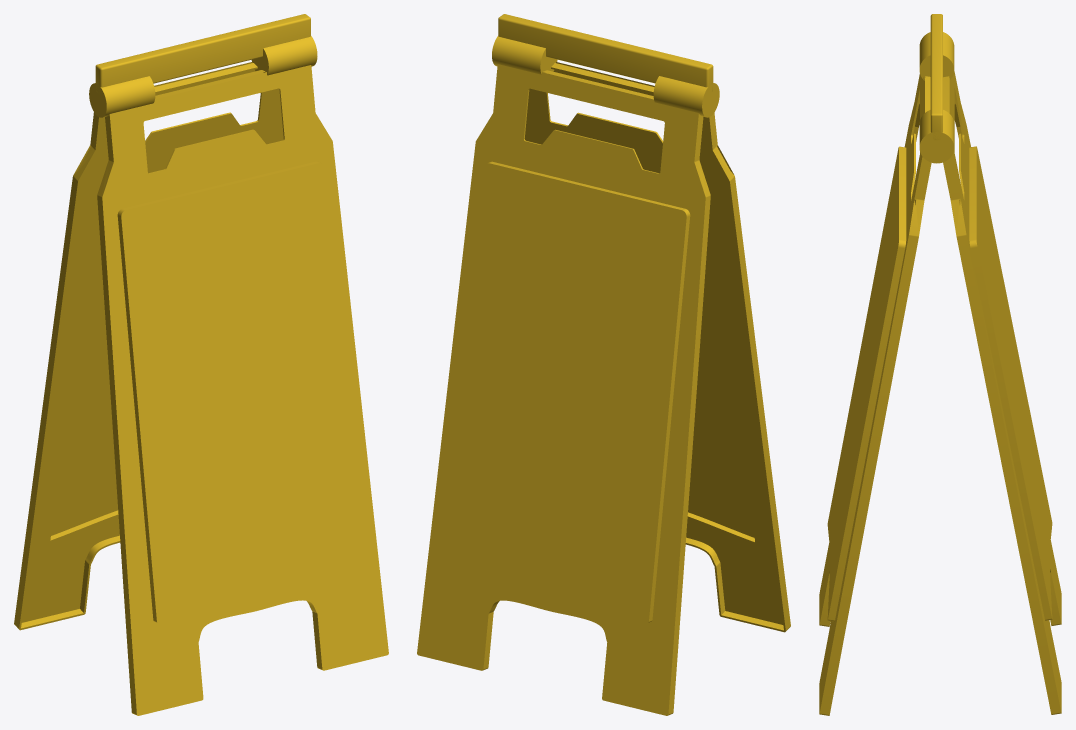
Rendered from wet-floor-sign.glb.
3 views of the same model, side by side, from view 1: azimuth 30°, elevation 25°; view 2: azimuth 150°, elevation 25°; view 3: azimuth 270°, elevation 25° (orthographic).
Visible parts, largest first — view 1: folding_sign; view 2: folding_sign; view 3: folding_sign.
Boxes of the visible parts, x1,y1,x2,y2 form: folding_sign: (14,14,388,715); folding_sign: (417,14,790,715); folding_sign: (819,14,1061,715).
Bounding box in the file's own units: 0.2799 × 0.6393 × 0.2369.
